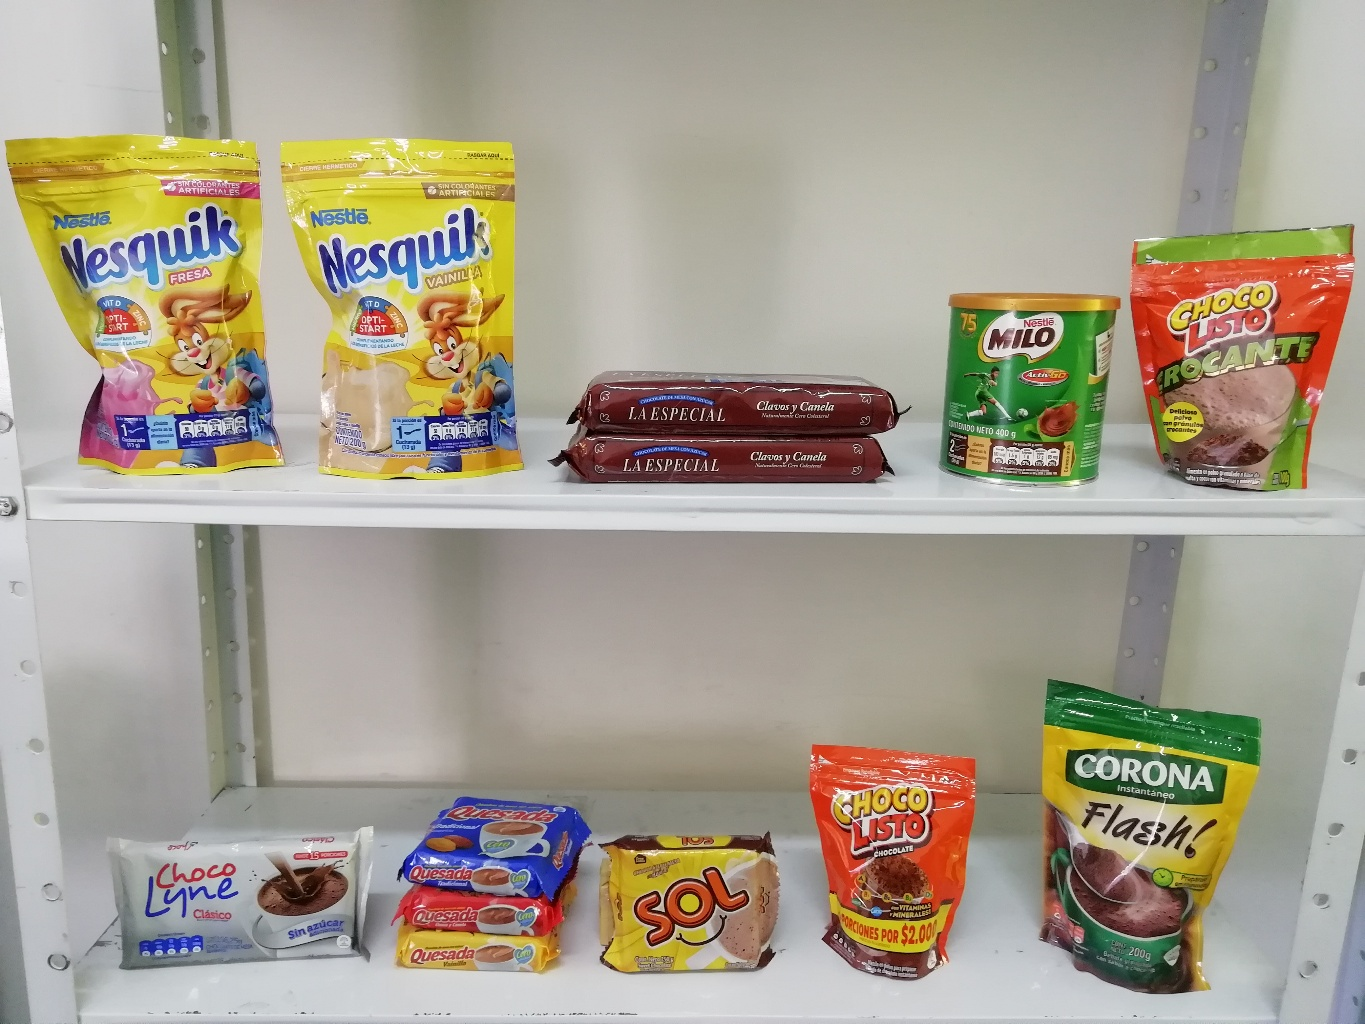COL0170102DYP10000: (1127, 224, 1360, 495)
COL0170203LAT40000: (938, 279, 1126, 490)
COL0170305DYP20000: (0, 124, 292, 480)
COL0170306DYP20000: (269, 124, 543, 483)
